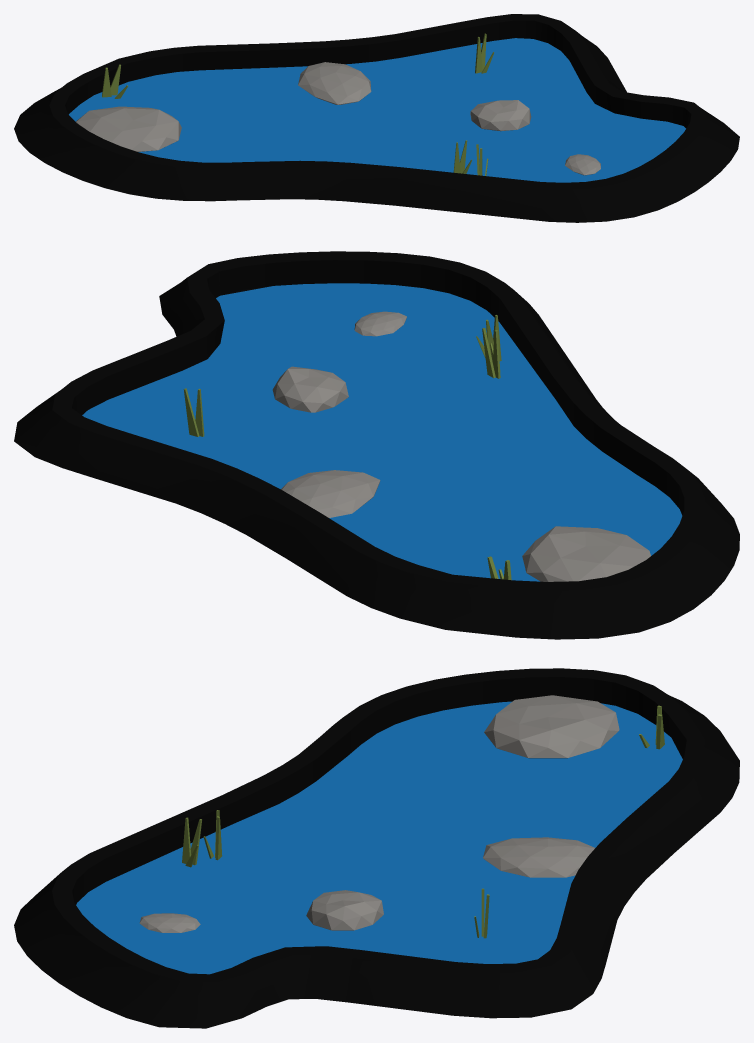
File: Pond_updated.fbx
3 views of the same model, one above another, from view 1: azimuth 30°, elevation 25°; view 2: azimuth 150°, elevation 25°; view 3: azimuth 270°, elevation 25° (orthographic). The views are drawn at different scales.
Visible parts, largest first — view 1: Pond_updated; view 2: Pond_updated; view 3: Pond_updated.
Boxes of the visible parts, x1,y1,x2,y2 form: Pond_updated: (14,14,739,222); Pond_updated: (14,251,739,639); Pond_updated: (14,668,739,1028).
Bounding box in the file's own units: 2575 × 224 × 2273.
